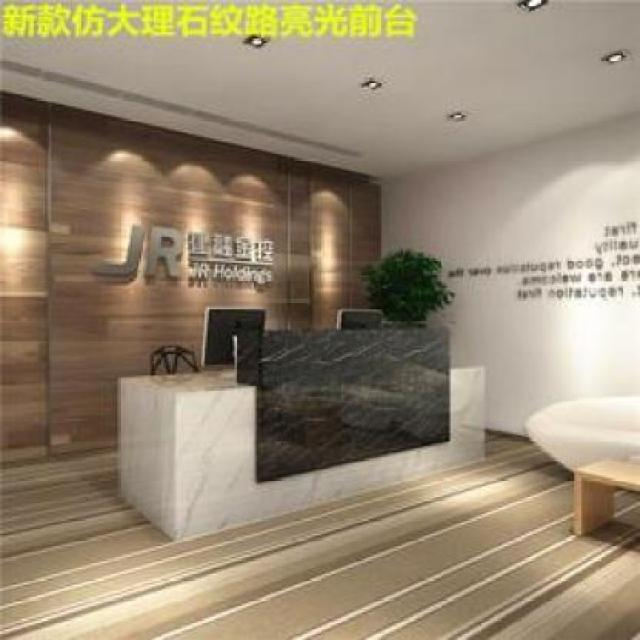frontdesk: (108, 314, 505, 546)
